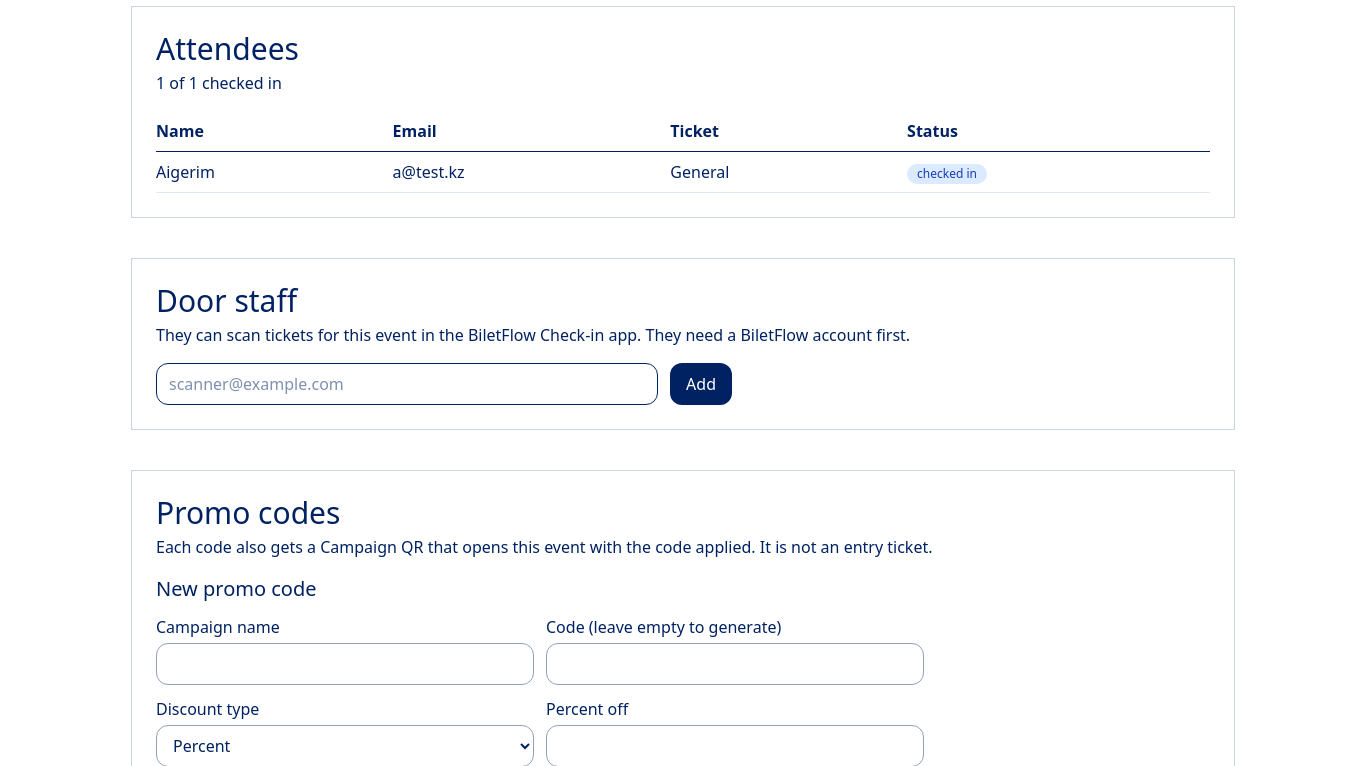
Test case: lists attendees and adds door staff
The image size is (1366, 766).
(page scrolled)
expect the text "Aigerim" is shown: met, box [156,152,393,192]
expect the text "1 of 1 checked in" is shown: met, box [156,72,282,94]
In the field named "Staff email": (407, 384) [156,363,658,405], type "door@test.kz"
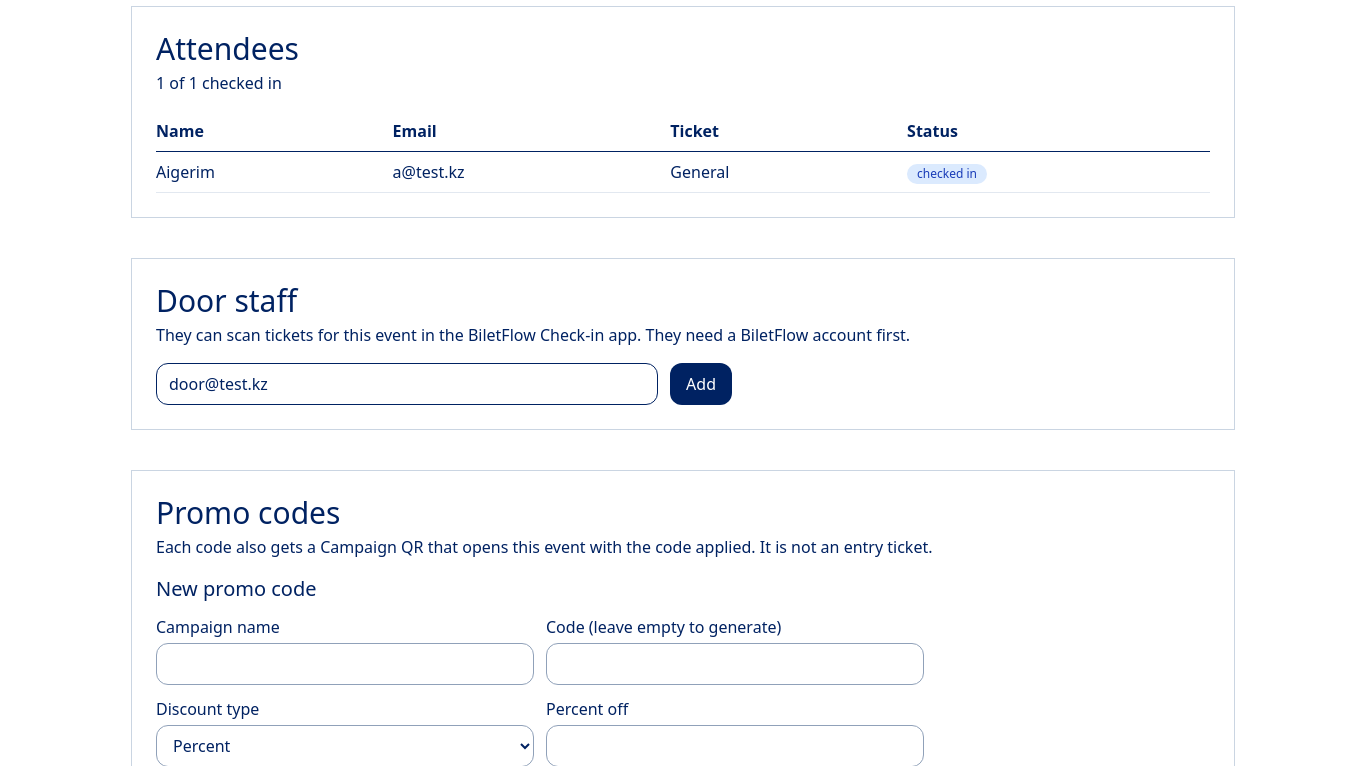
Click the button "Add": (701, 384) [670,363,732,405]
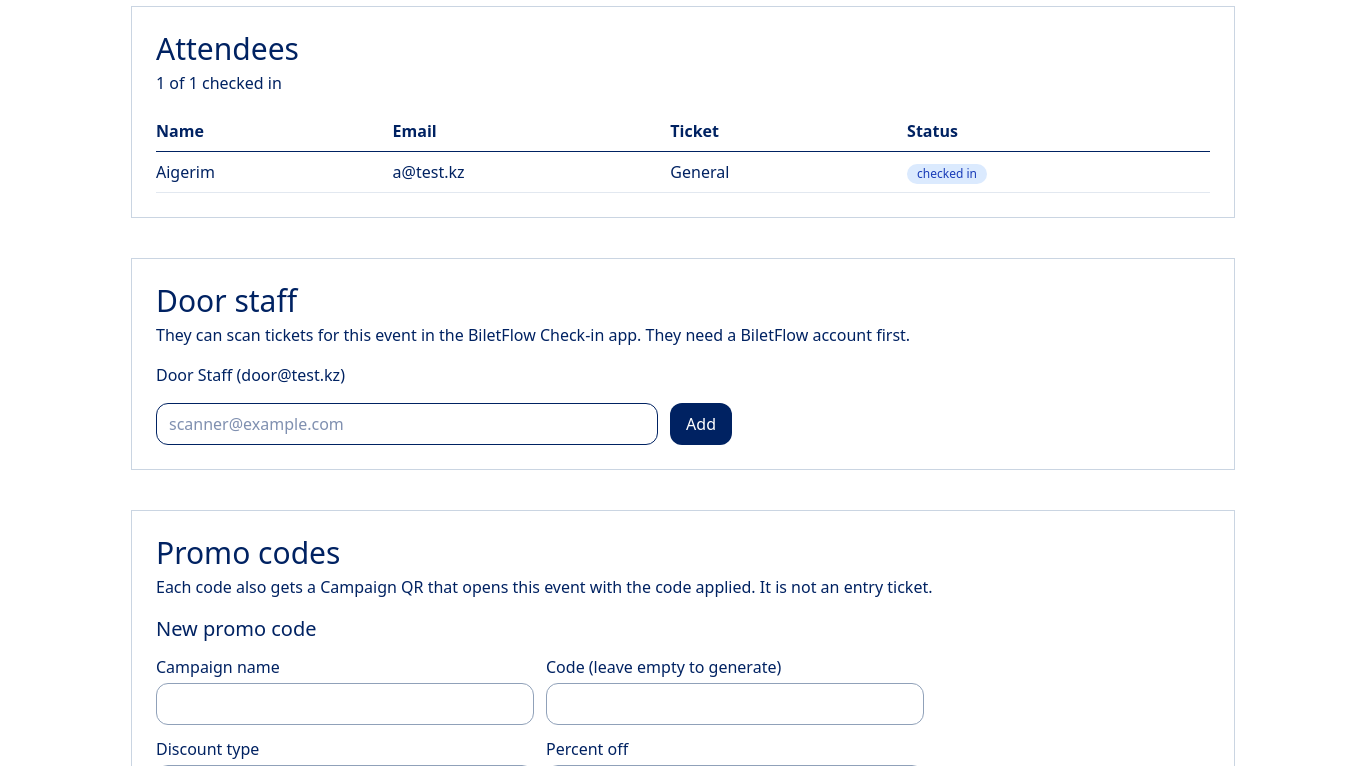
expect the list item "Door Staff (door@test.kz)" is shown: met, box [156,364,345,386]
